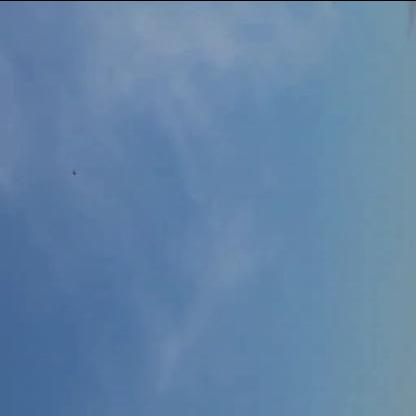plane: (66, 162, 80, 176)
